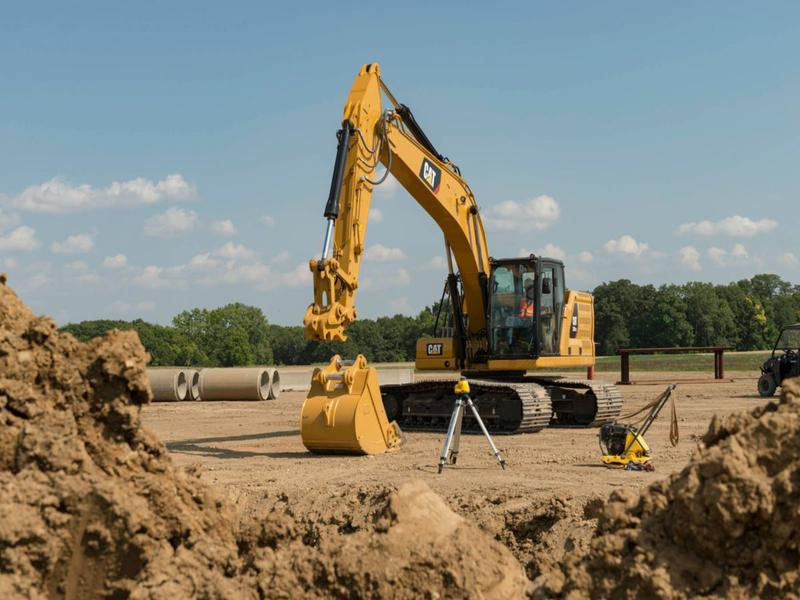shovel: (287, 53, 640, 461)
